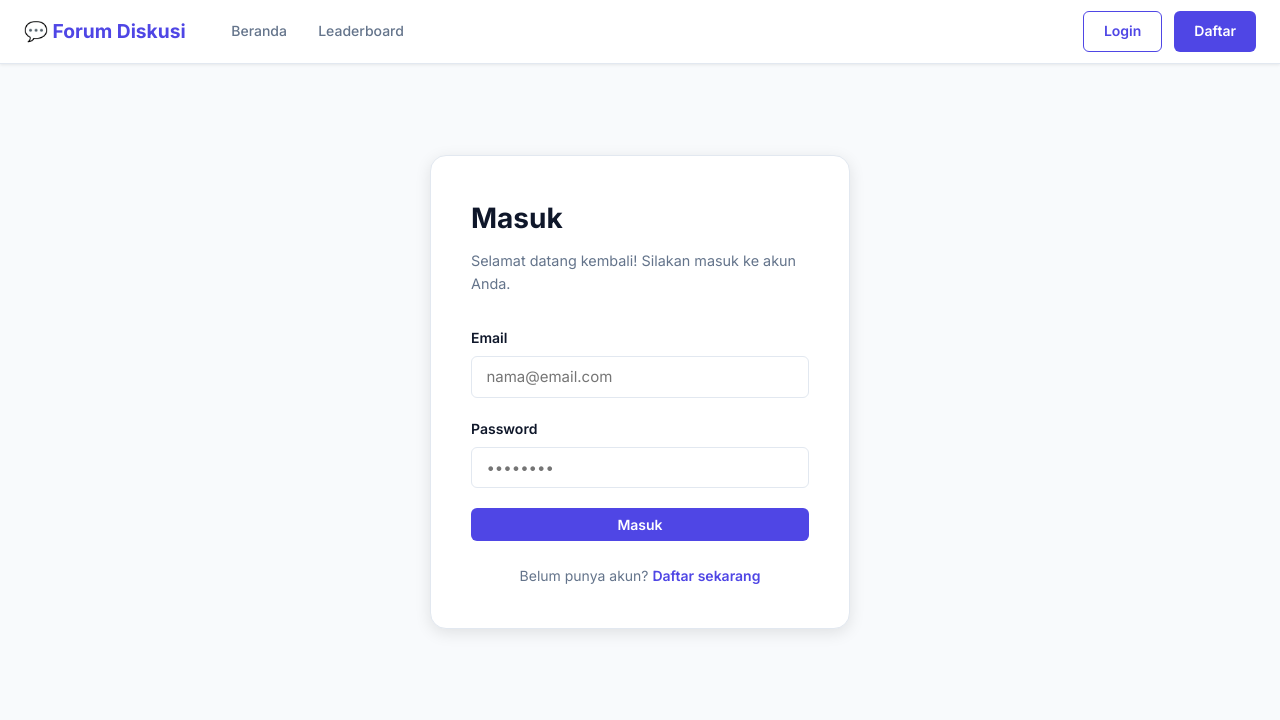
Login Page — Alur Autentikasi › harus menampilkan toast error dan tetap di halaman login jika kredensial salah
Note: Isi form dengan kredensial salah
Step 1. Type "salah@email.com" into the field with id "login-email" → (640, 377), box x1=471 y1=356 x2=809 y2=398
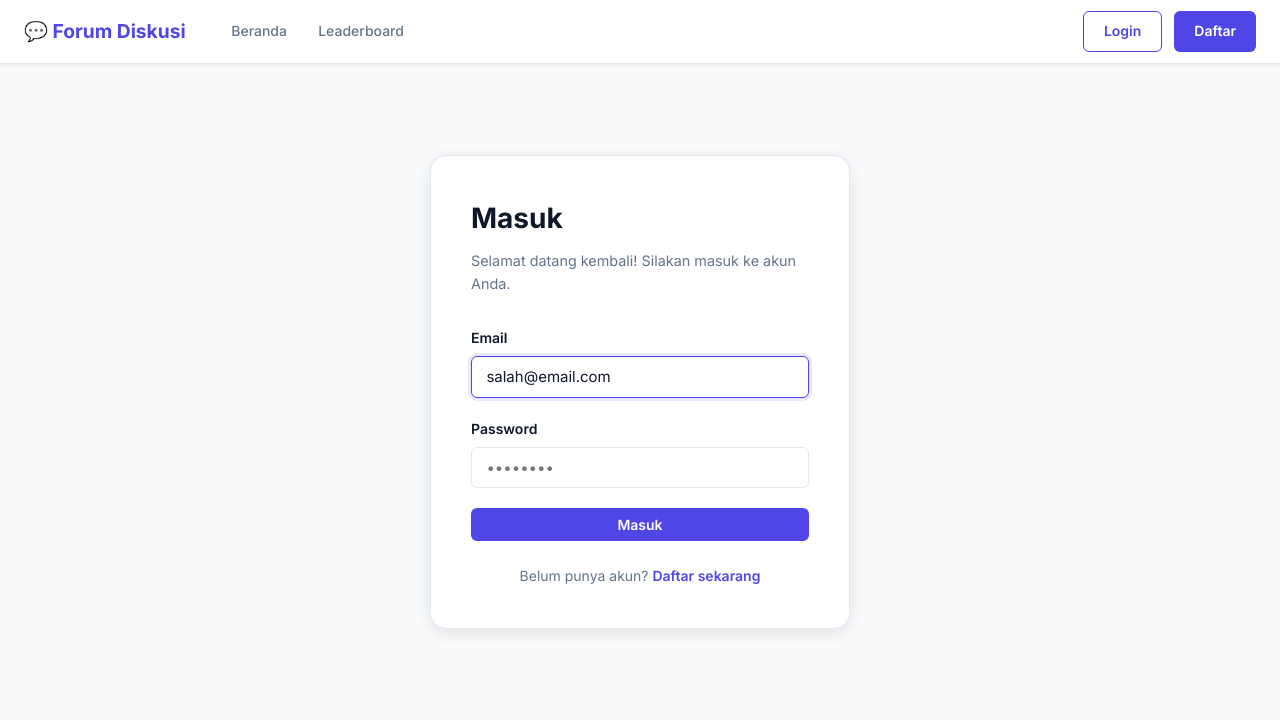
Step 2. Type "passwordSalah" into the password field with id "login-password" → (640, 468), box x1=471 y1=447 x2=809 y2=489
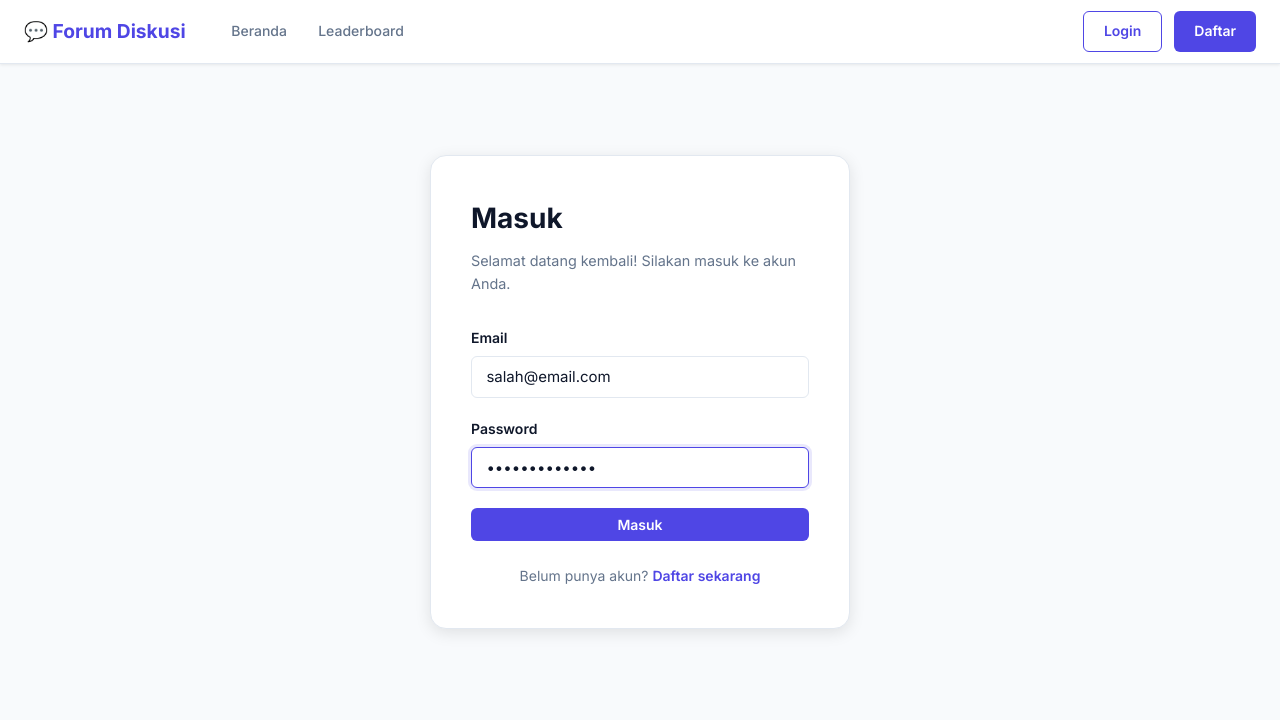
Step 3. Click the submit button → (640, 525), box x1=471 y1=508 x2=809 y2=541
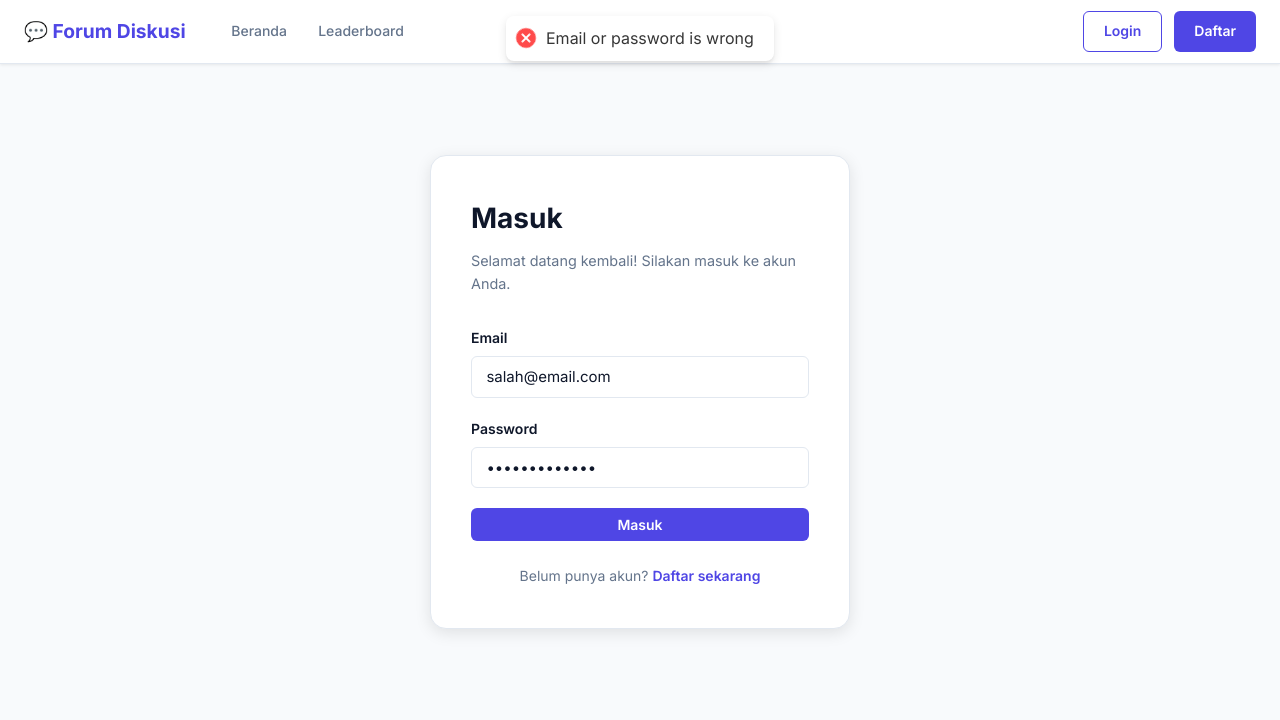
Check: the text "Email or password is wrong" is shown, box x1=546 y1=28 x2=754 y2=49
